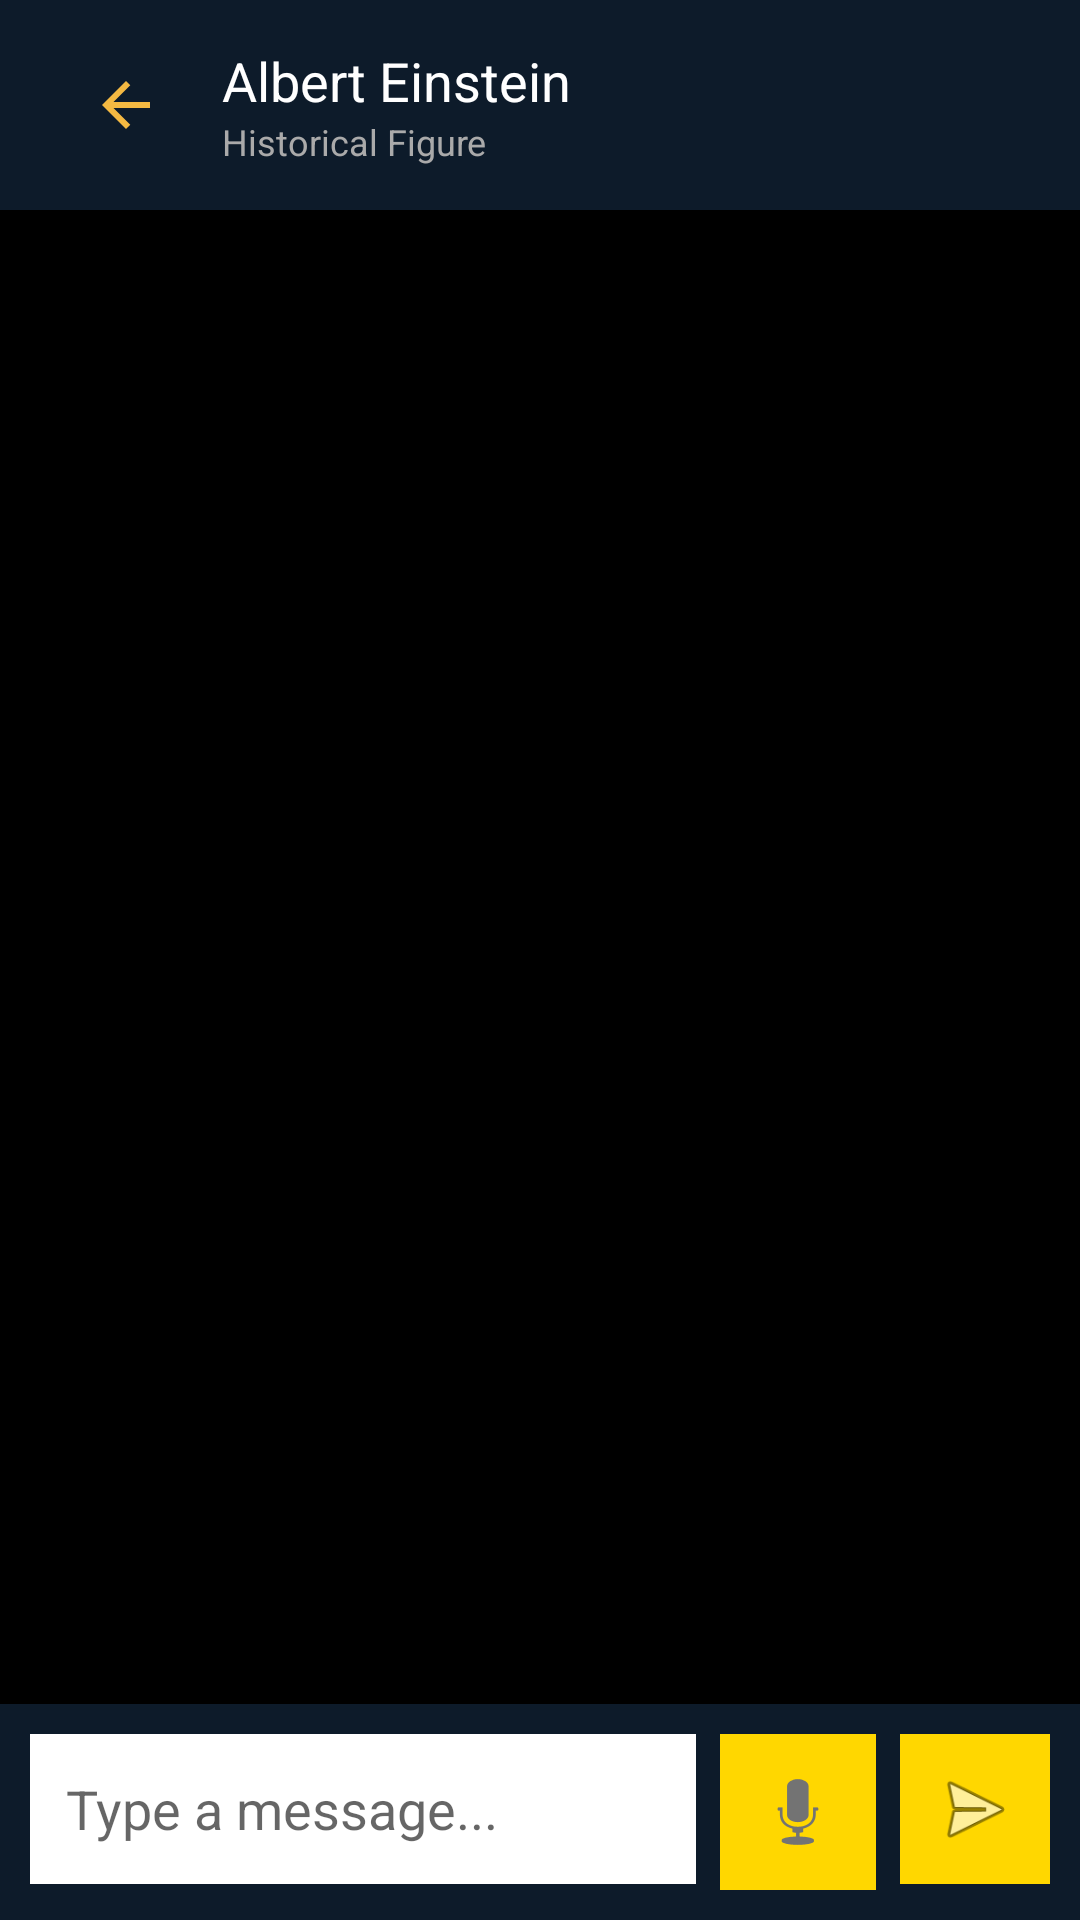

Point at icon controls on the screen. Image size 1080px x 1920px, points as (x=x, y=y).
back: (x=126, y=105)
send: (x=975, y=1809)
speak now: (x=798, y=1812)
